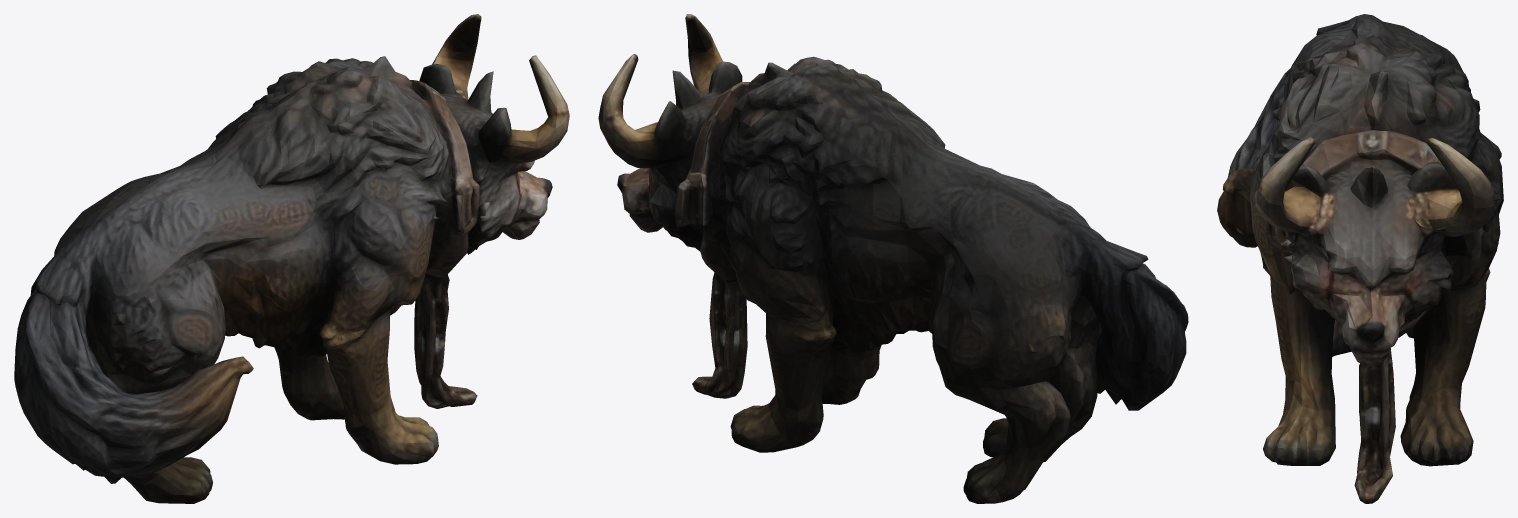
The model's file is skarnwolf.glb.
The picture shows the model from 3 angles, left to right: view 1: azimuth 30°, elevation 25°; view 2: azimuth 150°, elevation 25°; view 3: azimuth 270°, elevation 25°; orthographic projection. The views are drawn at different scales.
Parts seen in each view (by area): view 1: world; view 2: world; view 3: world.
Part boxes in pixels (box(x1,y1,x2,y2)): world: box(14, 14, 569, 503); world: box(598, 14, 1188, 503); world: box(1217, 14, 1503, 503).
Size of the model in its own units: 0.9987 by 0.6428 by 0.4193.
Materials: 1 (1 with a texture image).
